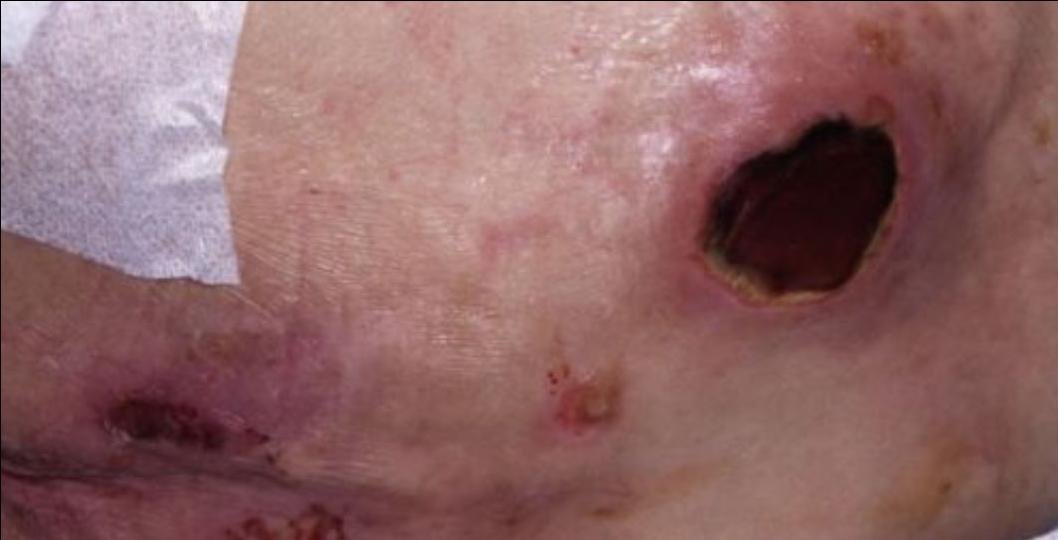Stage4: (673, 56, 957, 387)
